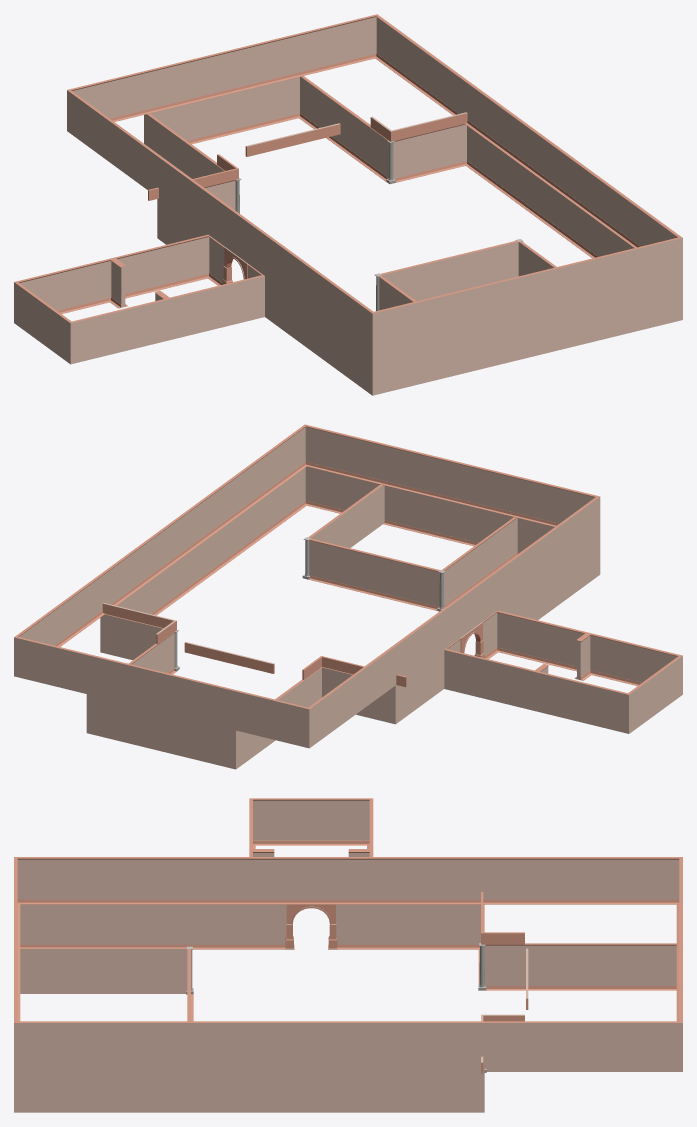
File: GalleryWalls.glb
3 renders of one model, top to bottom at view 1: azimuth 30°, elevation 25°; view 2: azimuth 150°, elevation 25°; view 3: azimuth 270°, elevation 25°, orthographic. The views are drawn at different scales.
Visible parts, largest first — view 1: WallBig1.167, WallBig1.085, WallBig1.012, WallBigCorner1.007, WallBigCorner1.006, WallBigCorner1.014, WallBigCorner1.011, WallBigCorner1.012, WallBigCorner1.009, WallBigCorner1.004, Railing2.009, WallBig1.010 (+71 smaller); view 2: WallBigCorner1.013, WallBig1.167, WallBig1.085, WallBig1.010, WallBigCorner1.008, WallBigCorner1.005, WallBigCorner1.010, WallBig1.012, Railing2.005, Railing2.009, WallBigCorner1.002, WallBigCorner1.006 (+77 smaller); view 3: WallBig1.010, WallBig1.012, WallBig1.020, WallBig1.066, WallBig1.067, WallBig1.144, WallBig1.145, WallBig1.148, WallBig1.151, WallBig1.152, WallBig1.155, WallBig1.158 (+98 smaller).
Part boxes in pixels (left/top/right/bottom): WallBig1.167: left=645, top=229, right=682, bottom=287; WallBig1.085: left=647, top=279, right=682, bottom=328; WallBig1.012: left=191, top=231, right=224, bottom=285; WallBigCorner1.007: left=59, top=314, right=90, bottom=364; WallBigCorner1.006: left=93, top=258, right=123, bottom=308; WallBigCorner1.014: left=361, top=305, right=391, bottom=354; WallBigCorner1.011: left=361, top=347, right=391, bottom=395; WallBigCorner1.012: left=358, top=14, right=388, bottom=64; WallBigCorner1.009: left=282, top=76, right=311, bottom=123; WallBigCorner1.004: left=449, top=124, right=477, bottom=171; Railing2.009: left=370, top=112, right=467, bottom=141; WallBig1.010: left=245, top=263, right=270, bottom=321; WallBigCorner1.013: left=275, top=700, right=320, bottom=748; WallBig1.167: left=294, top=424, right=338, bottom=473; WallBig1.085: left=296, top=466, right=337, bottom=512; WallBig1.010: left=482, top=607, right=514, bottom=659; WallBigCorner1.008: left=610, top=686, right=639, bottom=733; WallBigCorner1.005: left=579, top=633, right=607, bottom=680; WallBigCorner1.010: left=217, top=726, right=246, bottom=769; WallBig1.012: left=438, top=638, right=461, bottom=692; Railing2.005: left=184, top=642, right=274, bottom=673; Railing2.009: left=102, top=603, right=176, bottom=644; WallBigCorner1.002: left=377, top=685, right=406, bottom=724; WallBigCorner1.006: left=535, top=664, right=555, bottom=715; WallBig1.010: left=237, top=904, right=286, bottom=949; WallBig1.012: left=336, top=904, right=385, bottom=949; WallBig1.020: left=323, top=798, right=348, bottom=845; WallBig1.066: left=608, top=943, right=633, bottom=990; WallBig1.067: left=633, top=943, right=658, bottom=990; WallBig1.144: left=608, top=857, right=633, bottom=904; WallBig1.145: left=633, top=857, right=658, bottom=904; WallBig1.148: left=509, top=857, right=534, bottom=904; WallBig1.151: left=484, top=857, right=509, bottom=904; WallBig1.152: left=261, top=857, right=286, bottom=904; WallBig1.155: left=286, top=857, right=311, bottom=904; WallBig1.158: left=410, top=857, right=435, bottom=904.
Bounding box in the file's own units: 52.63 × 8 × 54.
228 materials, 228 textured.
